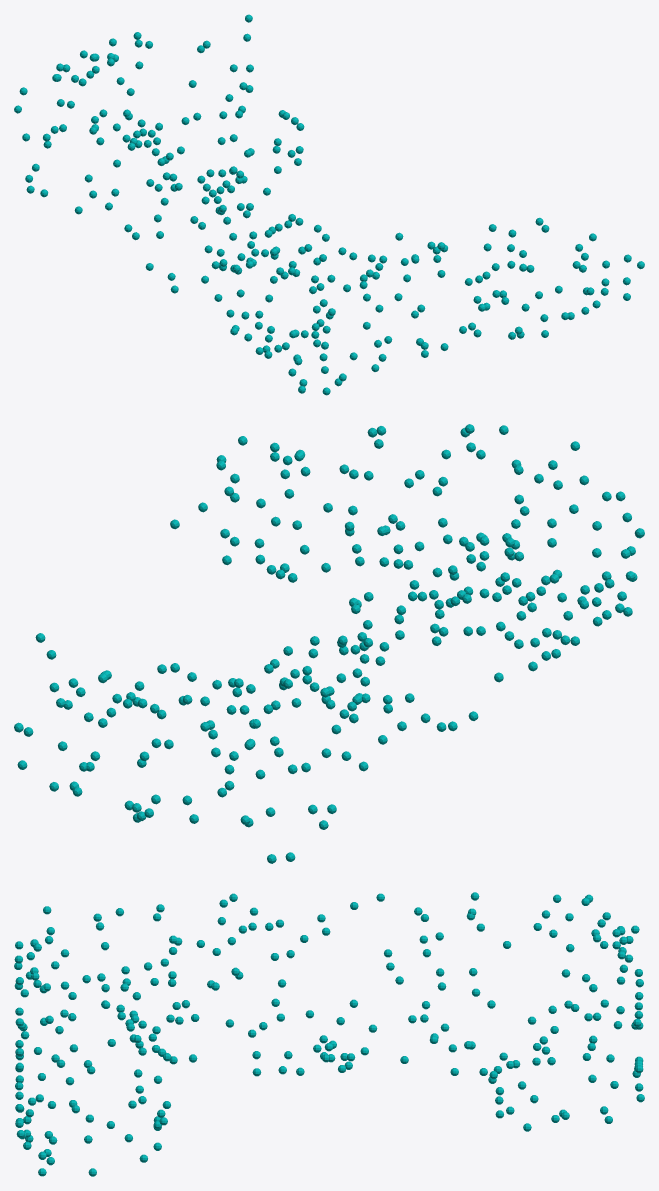
3 renders of one model, top to bottom at view 1: azimuth 30°, elevation 25°; view 2: azimuth 150°, elevation 25°; view 3: azimuth 270°, elevation 25°, orthographic. The views are drawn at different scales.
Bounding box in the file's own units: 0.6691 × 0.2541 × 1.03.
